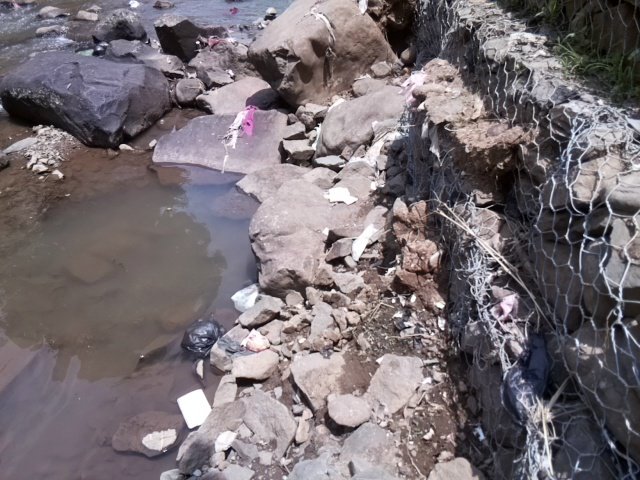Sampah_Plastik: (177, 315, 227, 359), (221, 107, 254, 166), (230, 284, 264, 313)
Sampah_Styrofoam: (174, 389, 215, 430), (326, 183, 359, 205)
